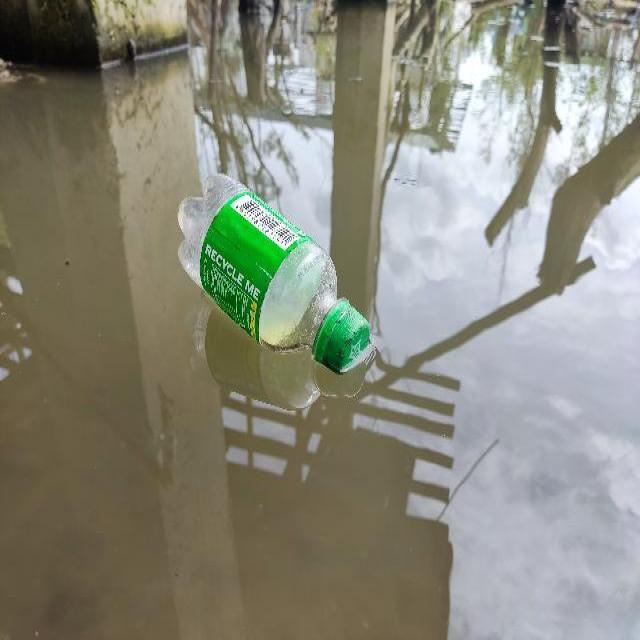Bottle: (168, 164, 382, 382)
